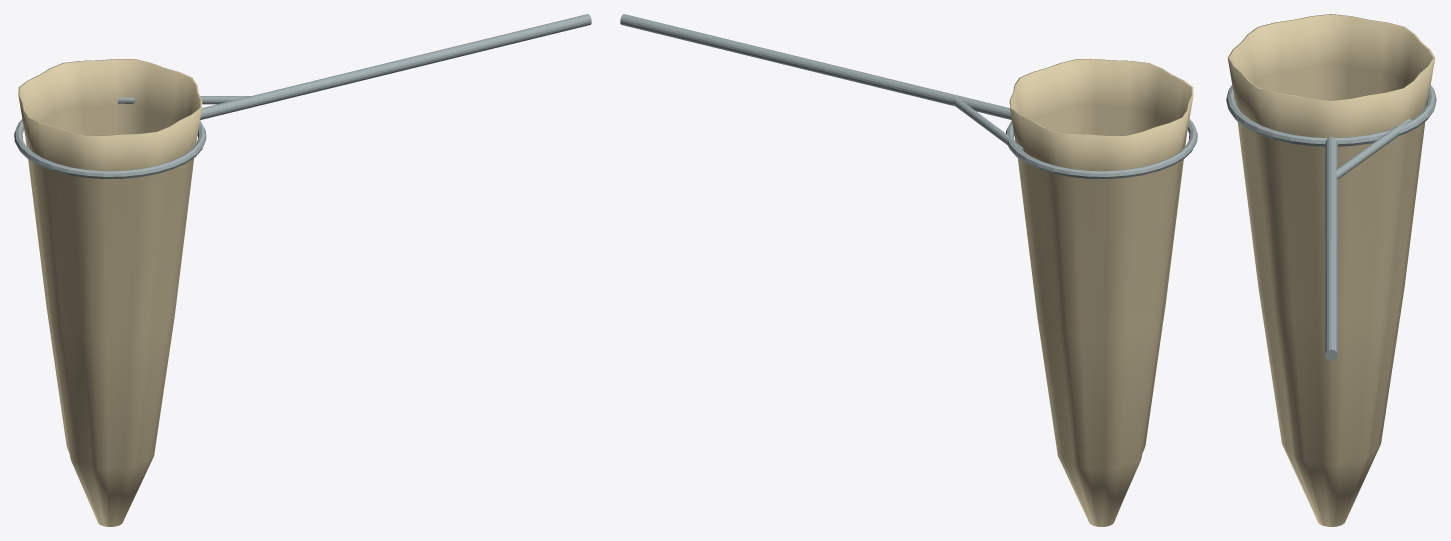
The model's file is source-edit.glb.
3 renders of one model, left to right at view 1: azimuth 30°, elevation 25°; view 2: azimuth 150°, elevation 25°; view 3: azimuth 270°, elevation 25°, orthographic. The views are drawn at different scales.
Visible parts, largest first — view 1: CLOTH_EditableHollowSock, HANDLE_Main, RIM_MetalRing; view 2: CLOTH_EditableHollowSock, HANDLE_Main, RIM_MetalRing, HANDLE_Brace; view 3: CLOTH_EditableHollowSock, HANDLE_Main, RIM_MetalRing, HANDLE_Brace.
Boxes of the visible parts, x1,y1,x2,y2 form: CLOTH_EditableHollowSock: (18, 59, 202, 526); HANDLE_Main: (200, 14, 591, 119); RIM_MetalRing: (14, 119, 206, 178); CLOTH_EditableHollowSock: (1009, 59, 1193, 526); HANDLE_Main: (620, 14, 1011, 119); RIM_MetalRing: (1006, 119, 1197, 178); HANDLE_Brace: (952, 99, 1023, 151); CLOTH_EditableHollowSock: (1227, 14, 1435, 526); HANDLE_Main: (1325, 137, 1337, 360); RIM_MetalRing: (1226, 85, 1436, 146); HANDLE_Brace: (1335, 119, 1411, 179).
Bounding box in the file's own units: 0.458 × 0.33 × 0.136.
